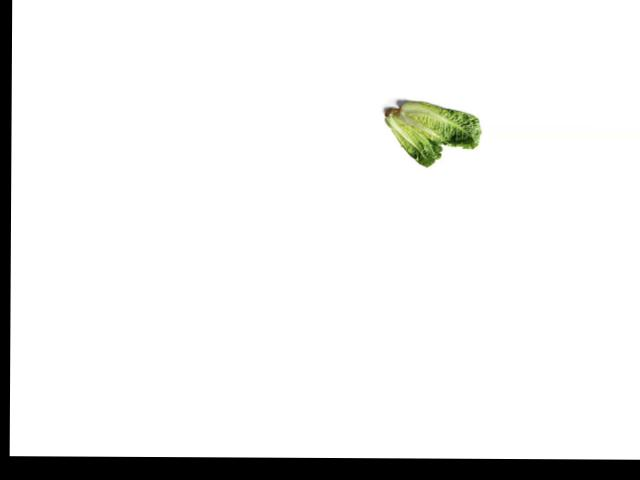lettuce: (380, 106, 442, 167)
